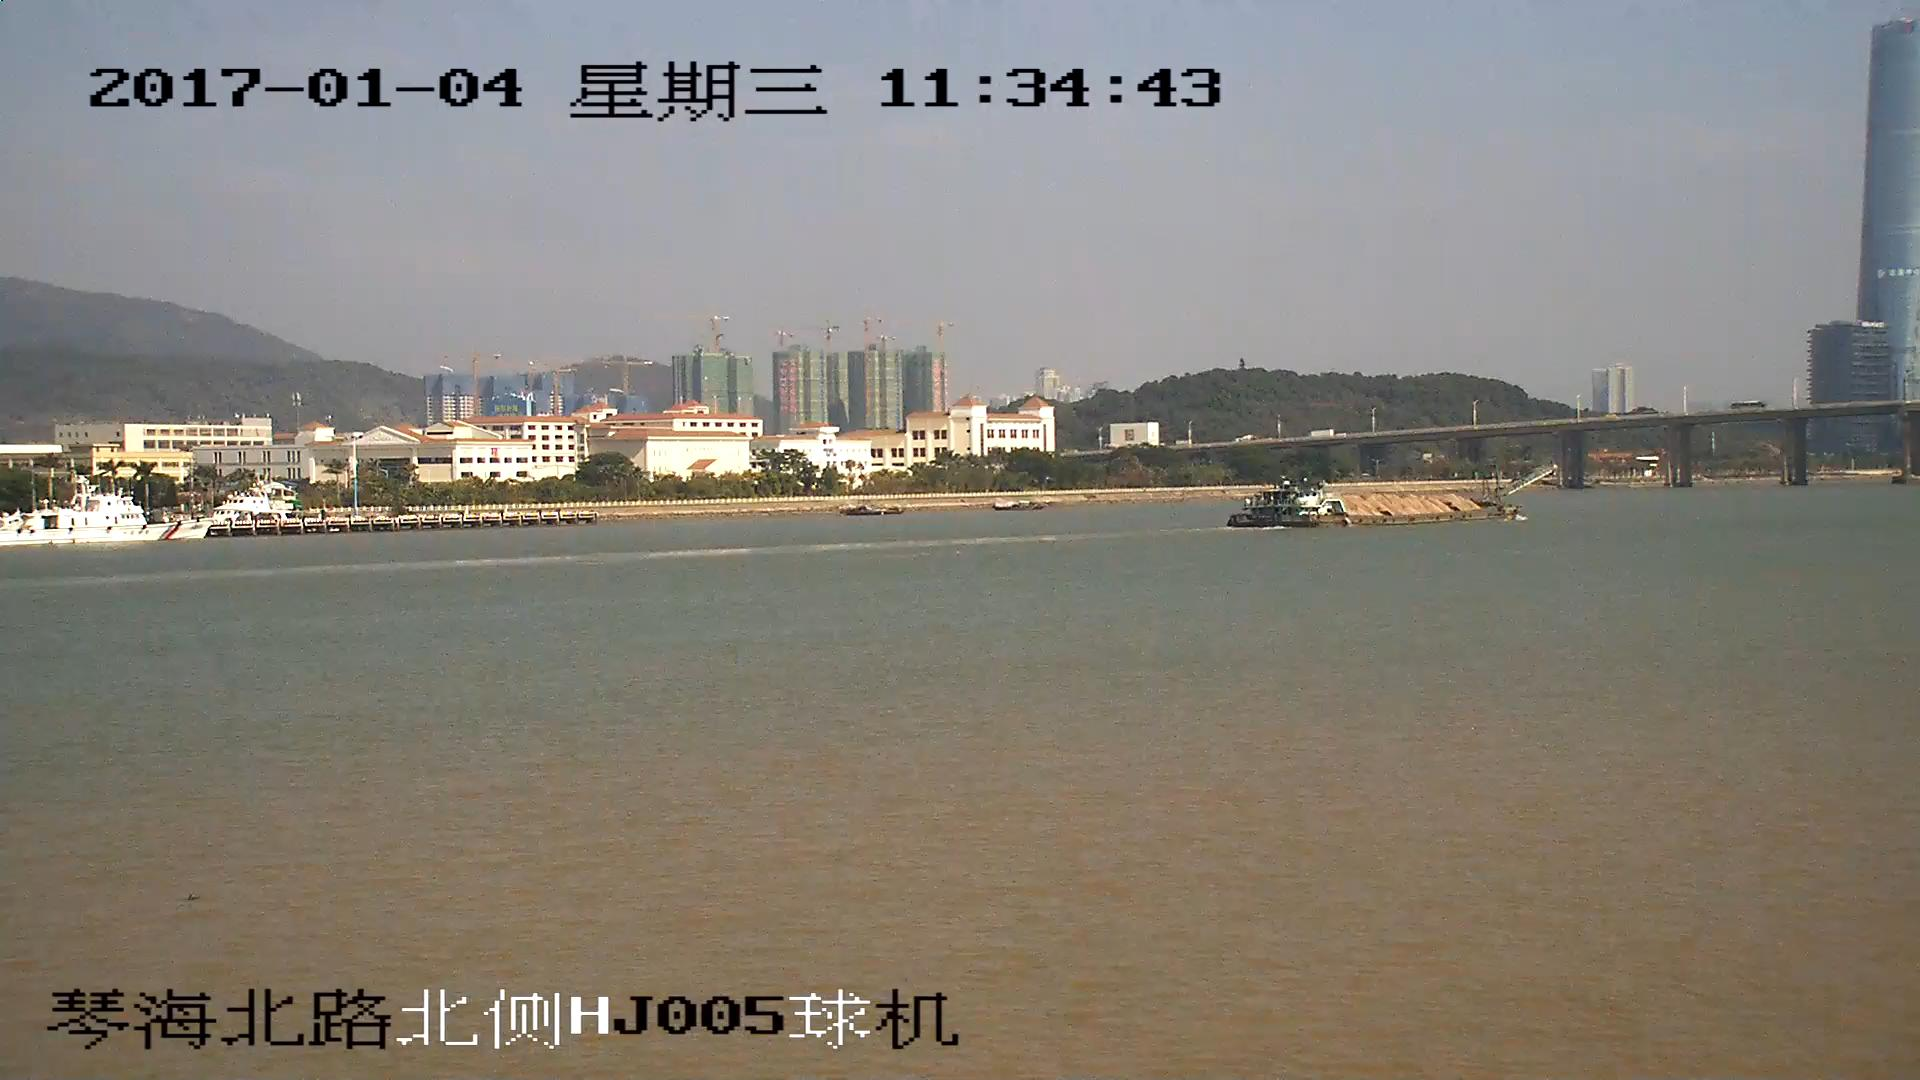ore carrier: (1229, 465, 1552, 532)
